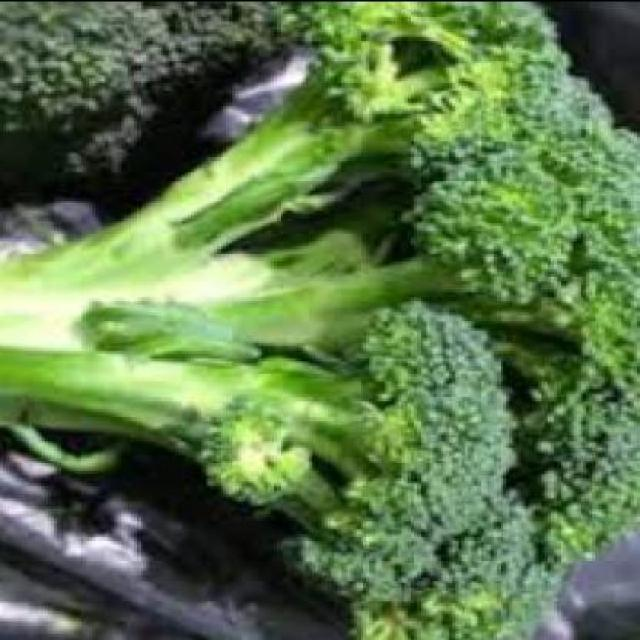BIODEGRADABLE: (1, 0, 640, 638), (4, 3, 299, 194)
